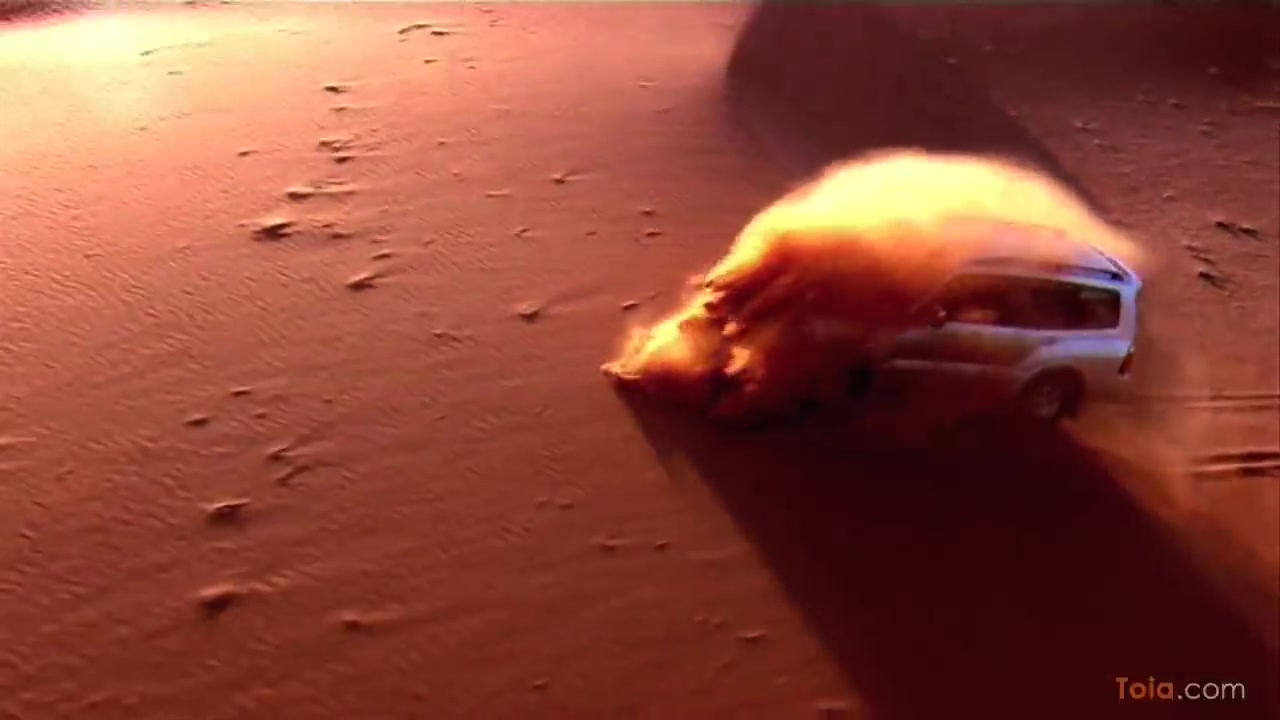car: (772, 237, 1144, 430)
